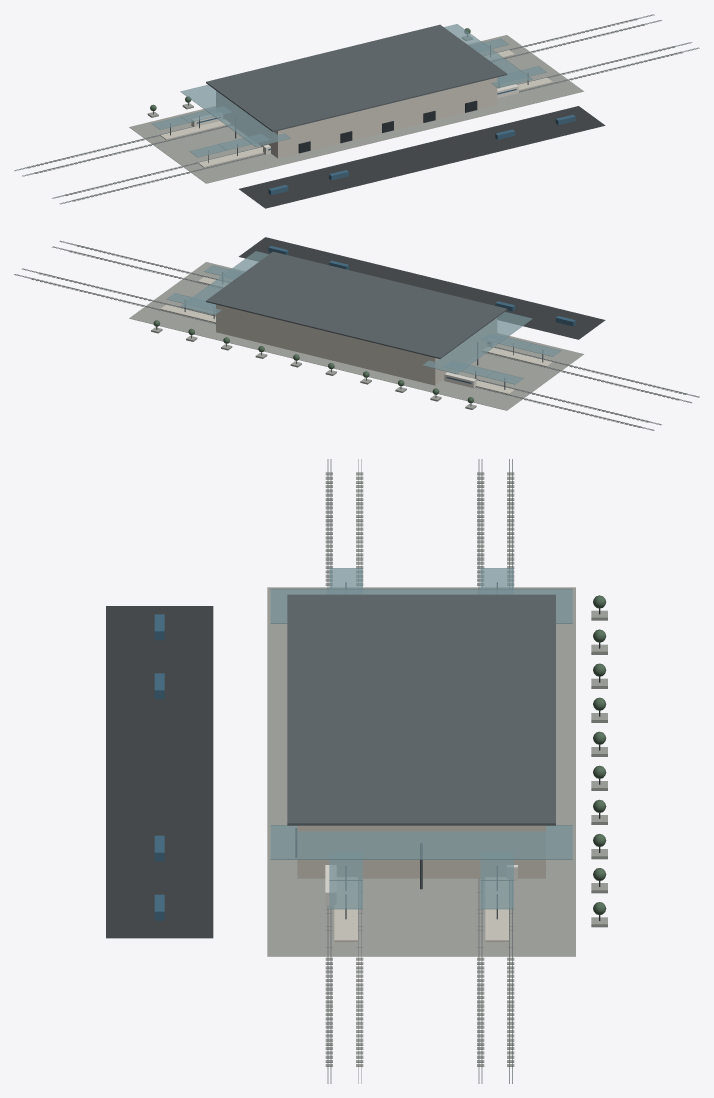
3 views of the same model, one above another, from view 1: azimuth 30°, elevation 25°; view 2: azimuth 150°, elevation 25°; view 3: azimuth 270°, elevation 25° (orthographic). The views are drawn at different scales.
Visible parts, largest first — view 1: East City High-Speed Rail: steel, East City High-Speed Rail: concrete, East City High-Speed Rail: road, East City High-Speed Rail: stone, East City High-Speed Rail: glass, East City High-Speed Rail: blue, East City High-Speed Rail: dark, East City High-Speed Rail: white; view 2: East City High-Speed Rail: steel, East City High-Speed Rail: concrete, East City High-Speed Rail: stone, East City High-Speed Rail: road, East City High-Speed Rail: glass, East City High-Speed Rail: blue, East City High-Speed Rail: green, East City High-Speed Rail: white; view 3: East City High-Speed Rail: steel, East City High-Speed Rail: concrete, East City High-Speed Rail: road, East City High-Speed Rail: glass, East City High-Speed Rail: stone, East City High-Speed Rail: green, East City High-Speed Rail: blue.
Boxes of the visible parts, left/top/right/bottom form: East City High-Speed Rail: steel: left=14, top=14, right=699, bottom=204; East City High-Speed Rail: concrete: left=27, top=18, right=682, bottom=201; East City High-Speed Rail: road: left=239, top=106, right=605, bottom=208; East City High-Speed Rail: stone: left=160, top=50, right=552, bottom=167; East City High-Speed Rail: glass: left=151, top=24, right=546, bottom=157; East City High-Speed Rail: blue: left=196, top=89, right=575, bottom=195; East City High-Speed Rail: dark: left=153, top=35, right=477, bottom=153; East City High-Speed Rail: white: left=191, top=84, right=518, bottom=154; East City High-Speed Rail: steel: left=14, top=240, right=699, bottom=430; East City High-Speed Rail: concrete: left=31, top=245, right=686, bottom=427; East City High-Speed Rail: stone: left=160, top=277, right=552, bottom=394; East City High-Speed Rail: road: left=239, top=237, right=605, bottom=339; East City High-Speed Rail: glass: left=166, top=251, right=561, bottom=384; East City High-Speed Rail: blue: left=268, top=246, right=575, bottom=383; East City High-Speed Rail: green: left=153, top=320, right=473, bottom=403; East City High-Speed Rail: white: left=444, top=341, right=495, bottom=388; East City High-Speed Rail: steel: left=287, top=459, right=555, bottom=1083; East City High-Speed Rail: concrete: left=267, top=472, right=607, bottom=1066; East City High-Speed Rail: road: left=106, top=606, right=213, bottom=938; East City High-Speed Rail: glass: left=270, top=568, right=572, bottom=909; East City High-Speed Rail: stone: left=297, top=825, right=545, bottom=941; East City High-Speed Rail: green: left=593, top=595, right=606, bottom=915; East City High-Speed Rail: blue: left=154, top=614, right=164, bottom=920.
Size of the model in its own units: 440 by 20.8 by 150.
